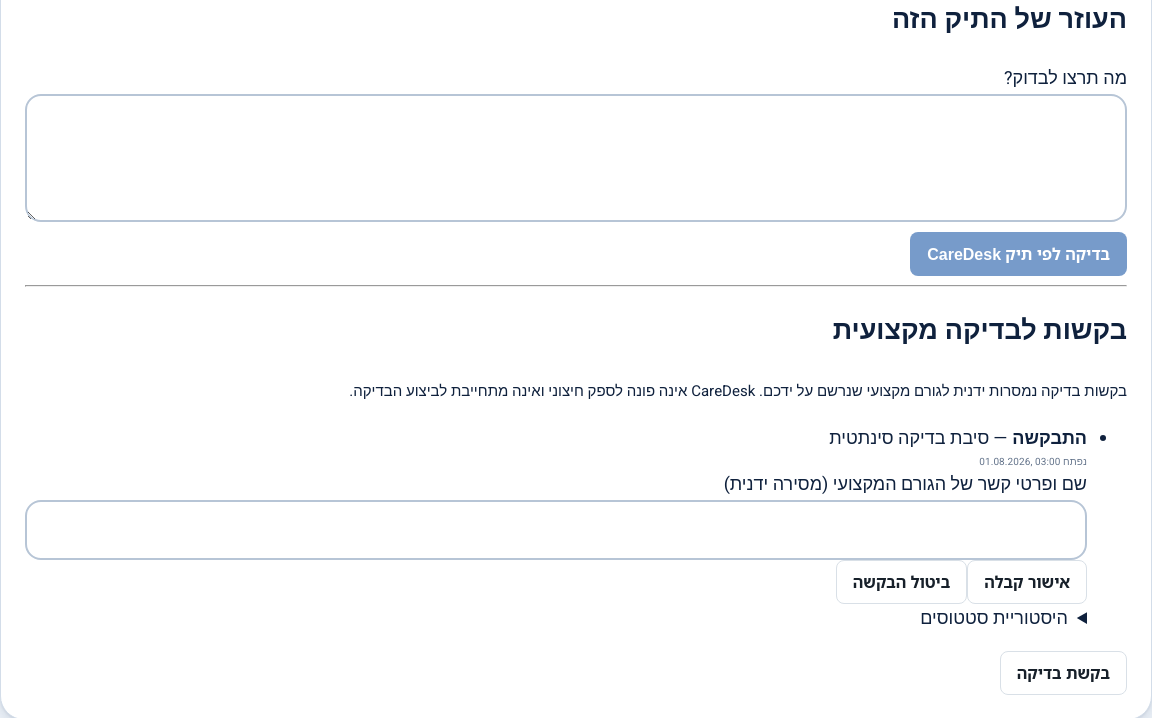
ProductCompletionPanel › escalation lifecycle › sends a manual handoff transition with the free-text assignment
The image size is (1152, 718).
(page scrolled)
Check: the text "התבקשה" is shown, box [1012,425,1087,452]
Type "עו\"ד רות כהן, 03-0000000" into the field labelled "שם ופרטי קשר של הגורם המקצועי (מסירה ידנית)" at (556, 530), box [25,500,1087,560]
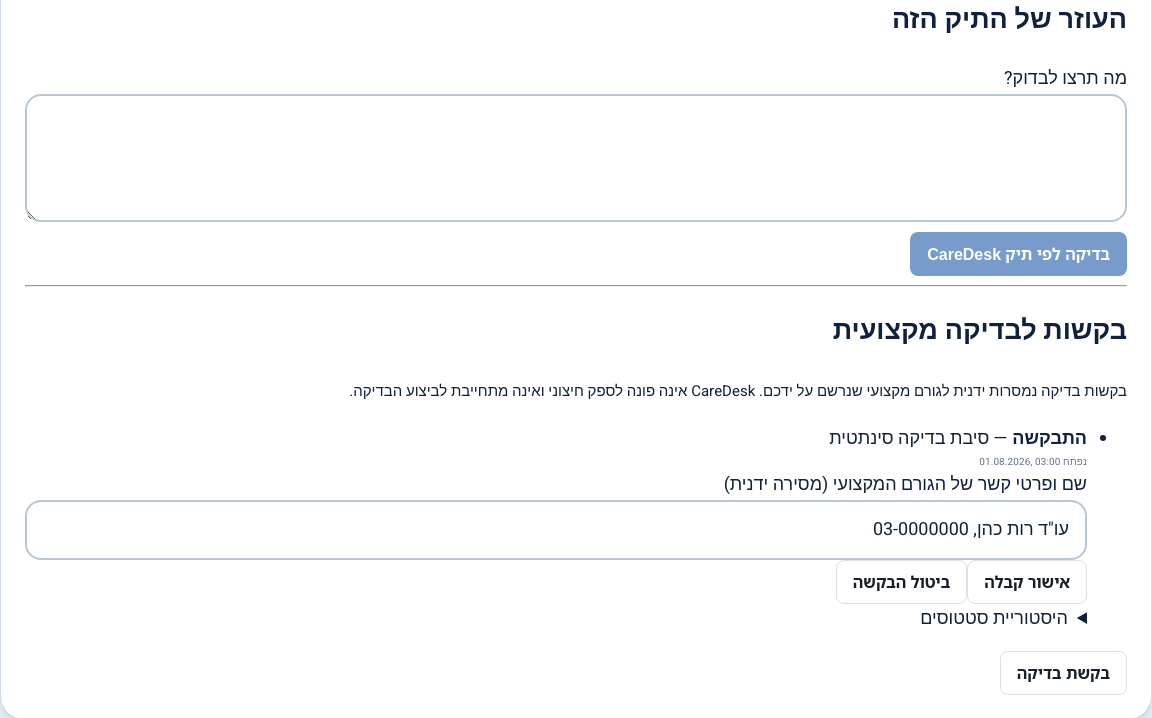
Click the button "אישור קבלה" at (1027, 582), box [967,560,1087,604]
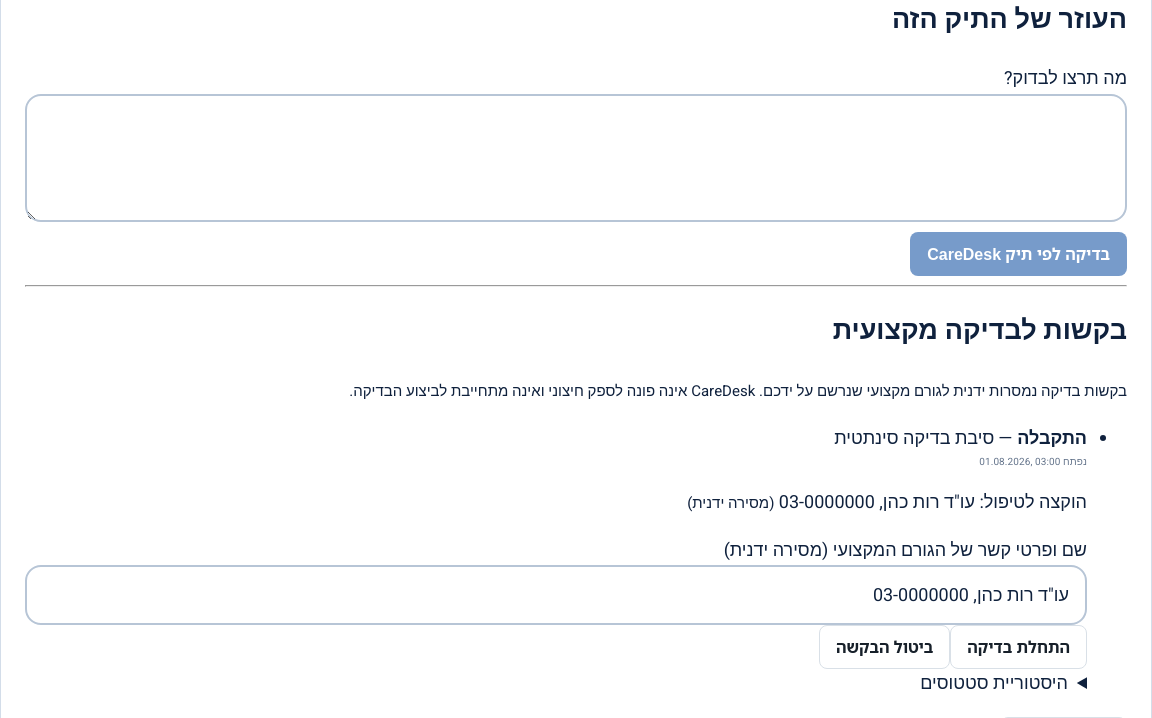
Check: the text "התקבלה" is shown, box [1017,425,1087,452]
